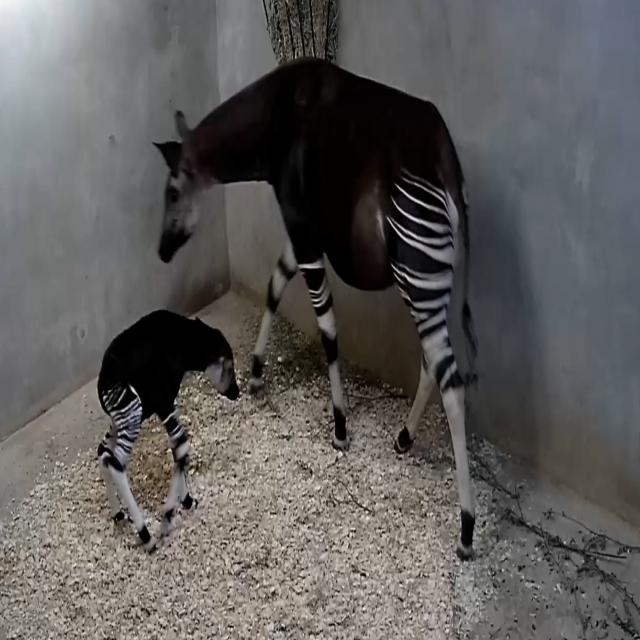Okapi: (162, 57, 481, 560)
